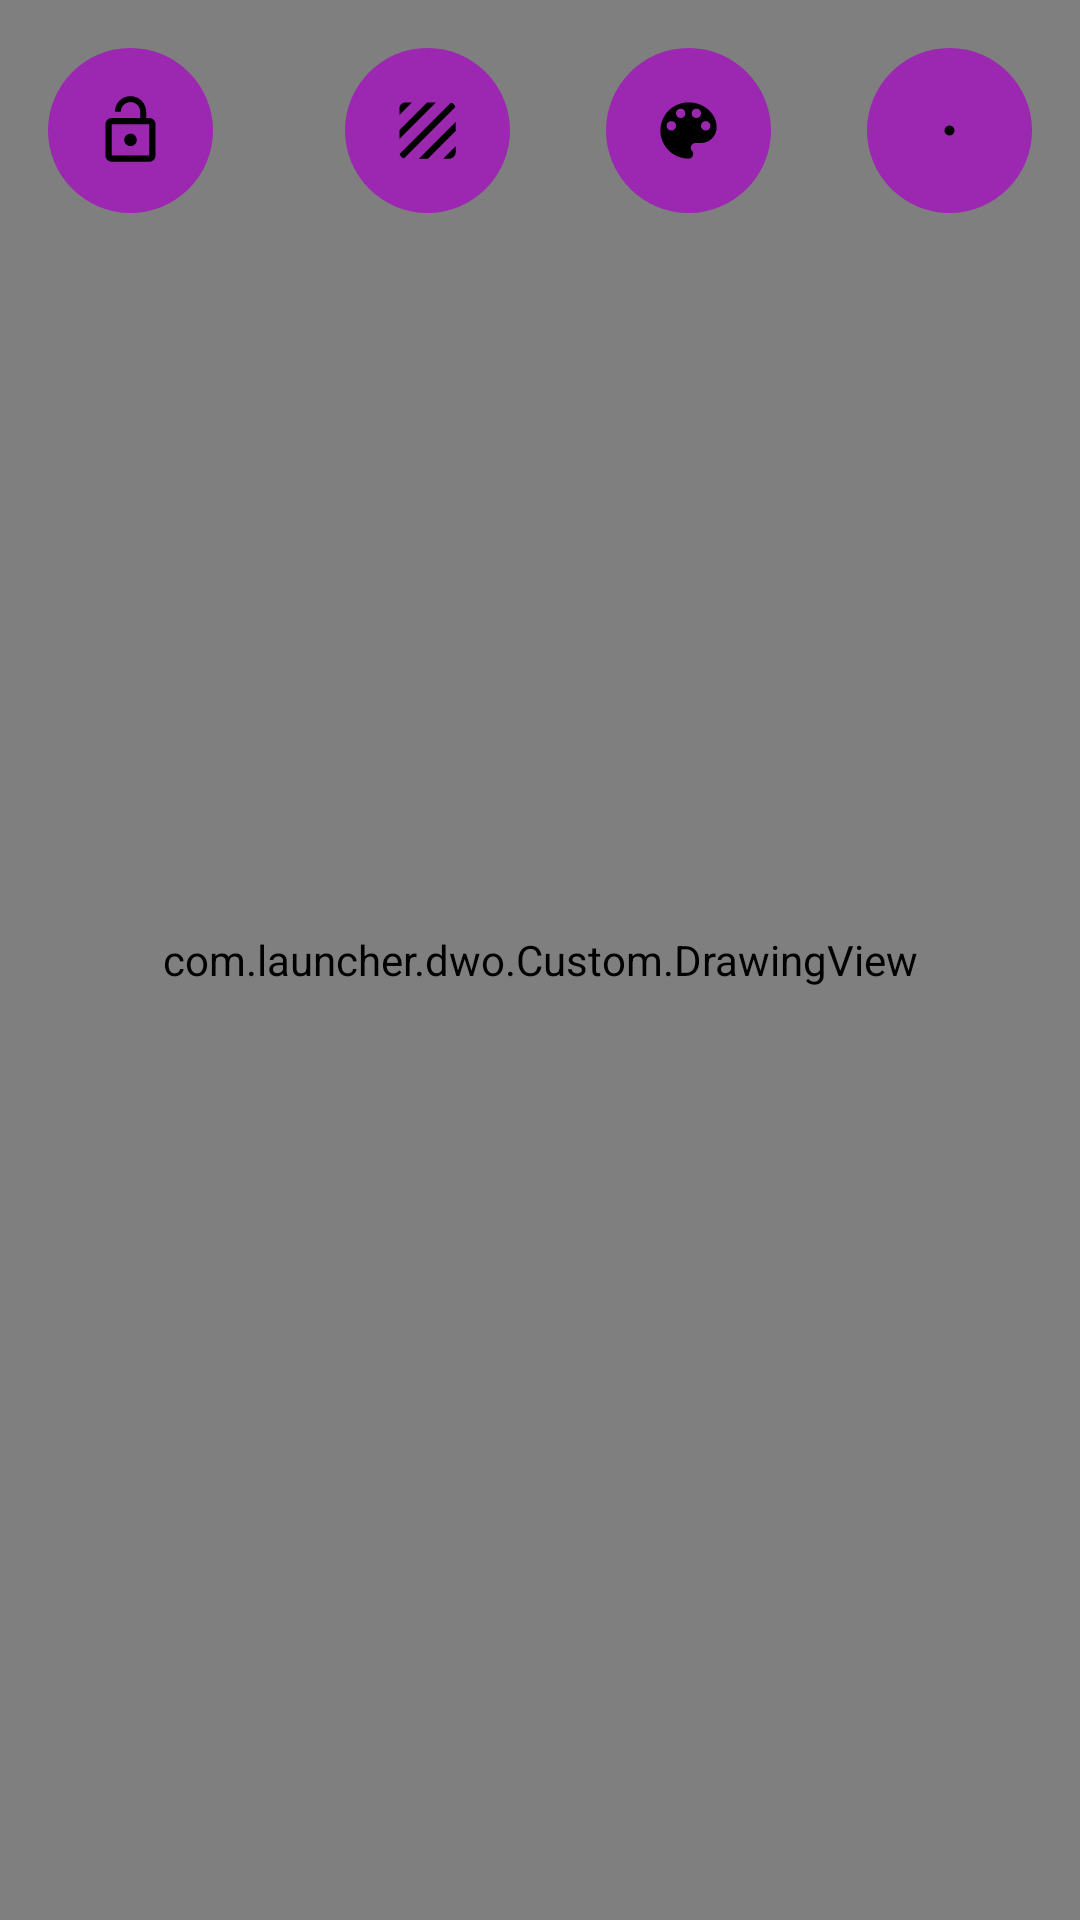

Screen size 1080x1920. Icon name, then its box in pixels as (x1, y1, x2, y2):
palette: (606, 48, 771, 213)
texture: (345, 48, 510, 213)
unlock: (48, 48, 213, 213)
